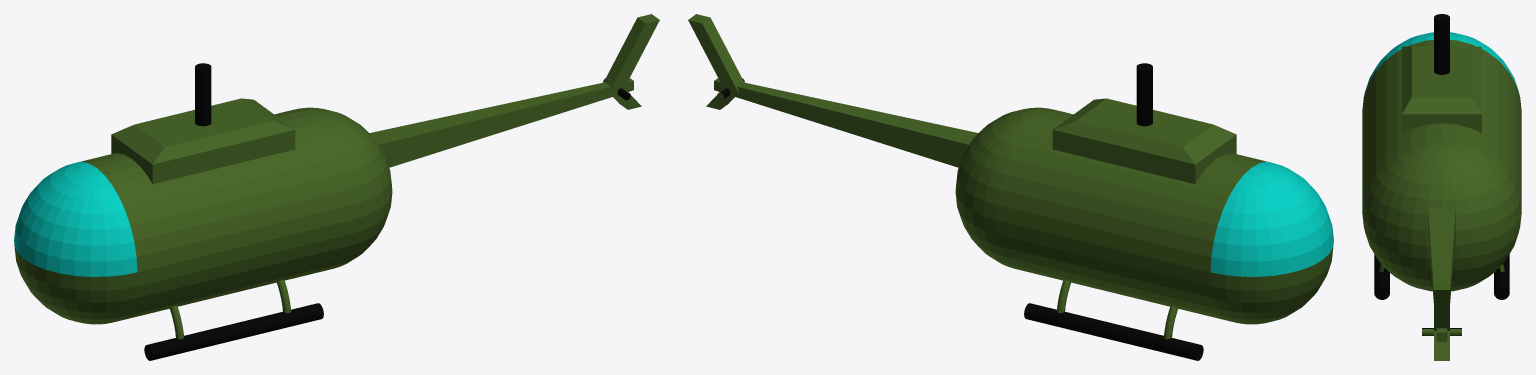
Rendered from Helicopter.obj.
The picture shows the model from 3 angles, left to right: view 1: azimuth 30°, elevation 25°; view 2: azimuth 150°, elevation 25°; view 3: azimuth 270°, elevation 25°; orthographic projection. The views are drawn at different scales.
Parts seen in each view (by area): view 1: 立方体.002_立方体.005; view 2: 立方体.002_立方体.005; view 3: 立方体.002_立方体.005.
Boxes of the visible parts, bbox=[...] form: 立方体.002_立方体.005: bbox=[14, 14, 659, 360]; 立方体.002_立方体.005: bbox=[688, 14, 1333, 360]; 立方体.002_立方体.005: bbox=[1362, 14, 1521, 360].
Size of the model in its own units: 8.84 by 3.35 by 2.
2 materials, 2 textured.
